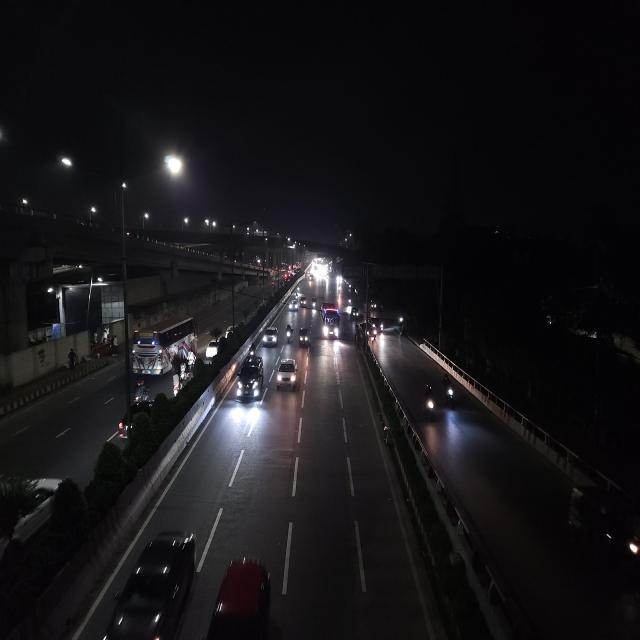bus: (130, 314, 199, 379), (320, 300, 340, 340)
car: (233, 353, 267, 406), (275, 356, 299, 393), (203, 338, 225, 363), (260, 325, 280, 348), (289, 299, 300, 312)
cng: (298, 324, 312, 350), (310, 297, 318, 311)
motorcycle: (420, 381, 438, 422), (441, 372, 458, 409), (132, 374, 147, 401), (284, 323, 294, 344)
pedestrian: (354, 329, 360, 350)
